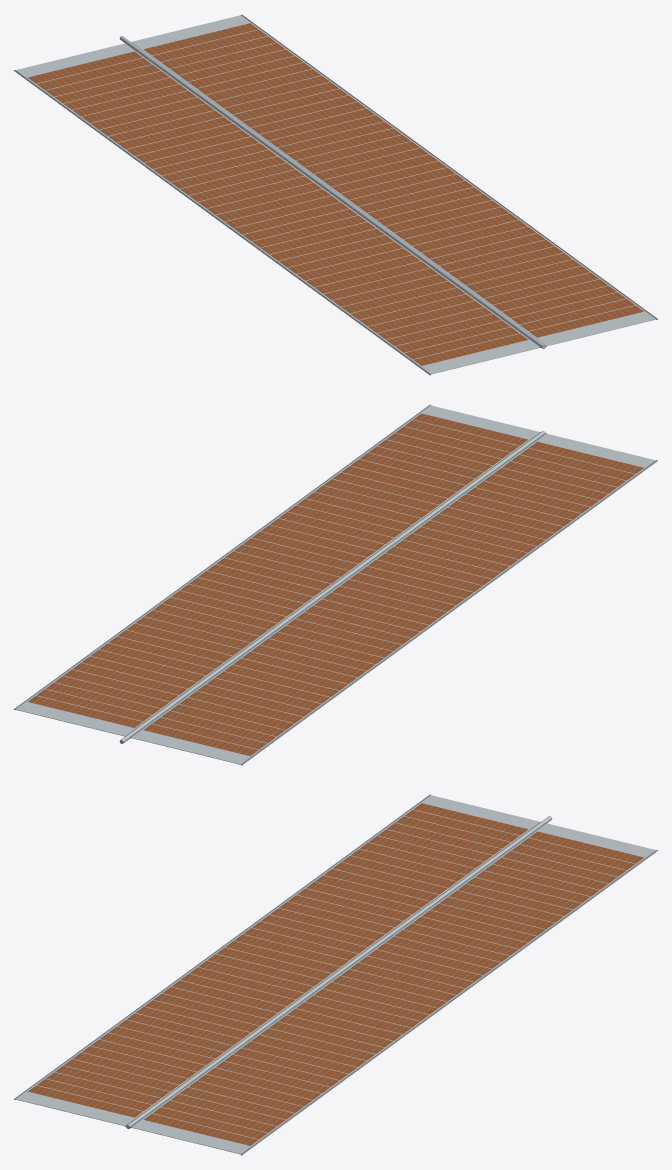
File: iss_arrays.s6_alpha_joint.wing_aft.glb
3 renders of one model, top to bottom at view 1: azimuth 30°, elevation 25°; view 2: azimuth 150°, elevation 25°; view 3: azimuth 330°, elevation 25°, orthographic.
Parts seen in each view (by area): view 1: iss_arrays.s6_alpha_joint.wing_aft.blanket_l.cells.mesh_Copp, iss_arrays.s6_alpha_joint.wing_aft.blanket_r.cells.mesh_Copp, iss_arrays.s6_alpha_joint.wing_aft.blanket_l.cells.mesh_Sati, iss_arrays.s6_alpha_joint.wing_aft.blanket_r.cells.mesh_Sati, iss_arrays.s6_alpha_joint.wing_aft.mesh_Satin_aluminum, iss_arrays.s6_alpha_joint.wing_aft.blanket_l.mesh_Machined_s, iss_arrays.s6_alpha_joint.wing_aft.blanket_r.mesh_Machined_s; view 2: iss_arrays.s6_alpha_joint.wing_aft.blanket_l.cells.mesh_Copp, iss_arrays.s6_alpha_joint.wing_aft.blanket_r.cells.mesh_Copp, iss_arrays.s6_alpha_joint.wing_aft.blanket_l.cells.mesh_Sati, iss_arrays.s6_alpha_joint.wing_aft.blanket_r.cells.mesh_Sati, iss_arrays.s6_alpha_joint.wing_aft.mesh_Satin_aluminum, iss_arrays.s6_alpha_joint.wing_aft.blanket_l.mesh_Machined_s, iss_arrays.s6_alpha_joint.wing_aft.blanket_r.mesh_Machined_s; view 3: iss_arrays.s6_alpha_joint.wing_aft.blanket_r.cells.mesh_Copp, iss_arrays.s6_alpha_joint.wing_aft.blanket_l.cells.mesh_Copp, iss_arrays.s6_alpha_joint.wing_aft.blanket_r.cells.mesh_Sati, iss_arrays.s6_alpha_joint.wing_aft.blanket_l.cells.mesh_Sati, iss_arrays.s6_alpha_joint.wing_aft.mesh_Satin_aluminum, iss_arrays.s6_alpha_joint.wing_aft.blanket_r.mesh_Machined_s, iss_arrays.s6_alpha_joint.wing_aft.blanket_l.mesh_Machined_s.
Boxes of the visible parts, box(x1,y1,x2,y2) form: iss_arrays.s6_alpha_joint.wing_aft.blanket_l.cells.mesh_Copp: box(28, 51, 527, 365); iss_arrays.s6_alpha_joint.wing_aft.blanket_r.cells.mesh_Copp: box(144, 23, 643, 337); iss_arrays.s6_alpha_joint.wing_aft.blanket_l.cells.mesh_Sati: box(14, 43, 540, 374); iss_arrays.s6_alpha_joint.wing_aft.blanket_r.cells.mesh_Sati: box(132, 15, 656, 345); iss_arrays.s6_alpha_joint.wing_aft.mesh_Satin_aluminum: box(119, 36, 545, 348); iss_arrays.s6_alpha_joint.wing_aft.blanket_l.mesh_Machined_s: box(14, 43, 541, 375); iss_arrays.s6_alpha_joint.wing_aft.blanket_r.mesh_Machined_s: box(131, 14, 657, 346); iss_arrays.s6_alpha_joint.wing_aft.blanket_l.cells.mesh_Copp: box(143, 441, 643, 755); iss_arrays.s6_alpha_joint.wing_aft.blanket_r.cells.mesh_Copp: box(28, 413, 527, 727); iss_arrays.s6_alpha_joint.wing_aft.blanket_l.cells.mesh_Sati: box(130, 433, 657, 764); iss_arrays.s6_alpha_joint.wing_aft.blanket_r.cells.mesh_Sati: box(14, 405, 540, 736); iss_arrays.s6_alpha_joint.wing_aft.mesh_Satin_aluminum: box(119, 431, 545, 743); iss_arrays.s6_alpha_joint.wing_aft.blanket_l.mesh_Machined_s: box(130, 433, 657, 765); iss_arrays.s6_alpha_joint.wing_aft.blanket_r.mesh_Machined_s: box(14, 404, 540, 735); iss_arrays.s6_alpha_joint.wing_aft.blanket_r.cells.mesh_Copp: box(144, 831, 643, 1145); iss_arrays.s6_alpha_joint.wing_aft.blanket_l.cells.mesh_Copp: box(28, 803, 527, 1117); iss_arrays.s6_alpha_joint.wing_aft.blanket_r.cells.mesh_Sati: box(131, 823, 657, 1154); iss_arrays.s6_alpha_joint.wing_aft.blanket_l.cells.mesh_Sati: box(15, 795, 539, 1125); iss_arrays.s6_alpha_joint.wing_aft.mesh_Satin_aluminum: box(126, 816, 552, 1128); iss_arrays.s6_alpha_joint.wing_aft.blanket_r.mesh_Machined_s: box(130, 823, 657, 1155); iss_arrays.s6_alpha_joint.wing_aft.blanket_l.mesh_Machined_s: box(14, 794, 540, 1126).
Bounding box in the file's own units: 10.98 × 0.19 × 35.15.
